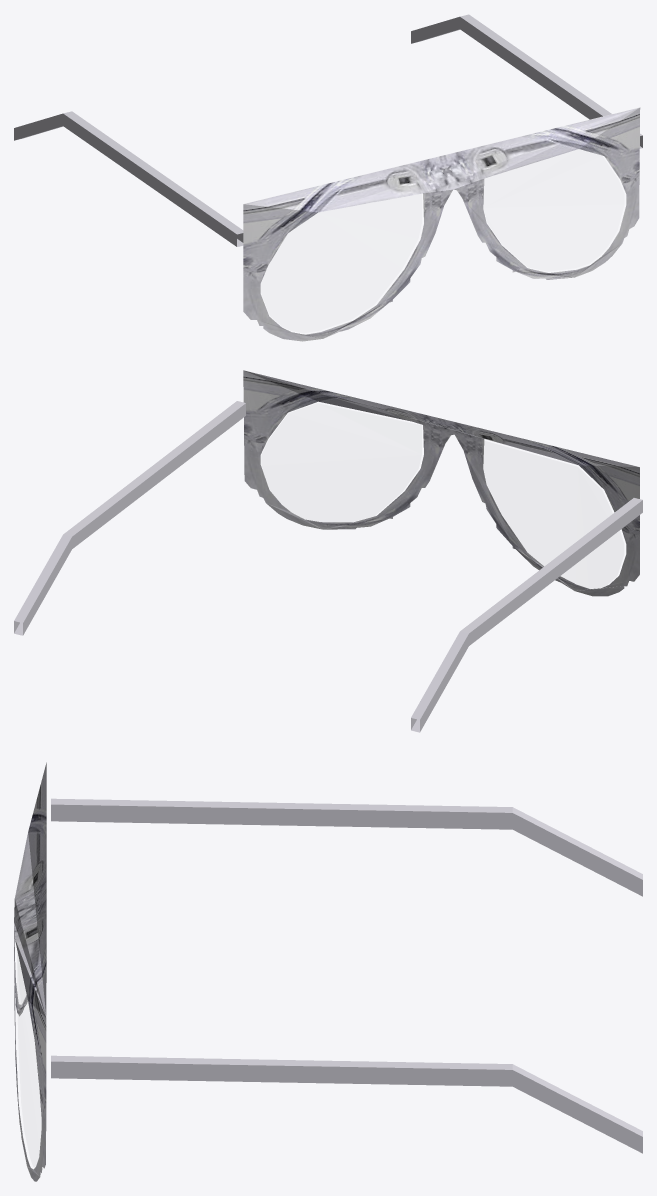
File: gothamstyle-245_crystal.glb
3 views of the same model, one above another, from view 1: azimuth 30°, elevation 25°; view 2: azimuth 150°, elevation 25°; view 3: azimuth 270°, elevation 25° (orthographic). The views are drawn at different scales.
Parts seen in each view (by area): view 1: frame_front, temple_viewer_left, temple_viewer_right; view 2: frame_front, temple_viewer_right, temple_viewer_left; view 3: temple_viewer_left, temple_viewer_right, frame_front.
Part boxes in pixels (<box>): frame_front: <box>243,107,640,341</box>; temple_viewer_left: <box>14,111,243,246</box>; temple_viewer_right: <box>411,14,642,148</box>; frame_front: <box>243,370,639,596</box>; temple_viewer_right: <box>14,401,245,635</box>; temple_viewer_left: <box>411,498,642,732</box>; temple_viewer_left: <box>51,798,642,896</box>; temple_viewer_right: <box>51,1055,642,1153</box>; frame_front: <box>14,762,46,1181</box>.
Bounding box in the file's own units: 0.1345 × 0.0466 × 0.136.
Materials: 3 (2 with a texture image).
